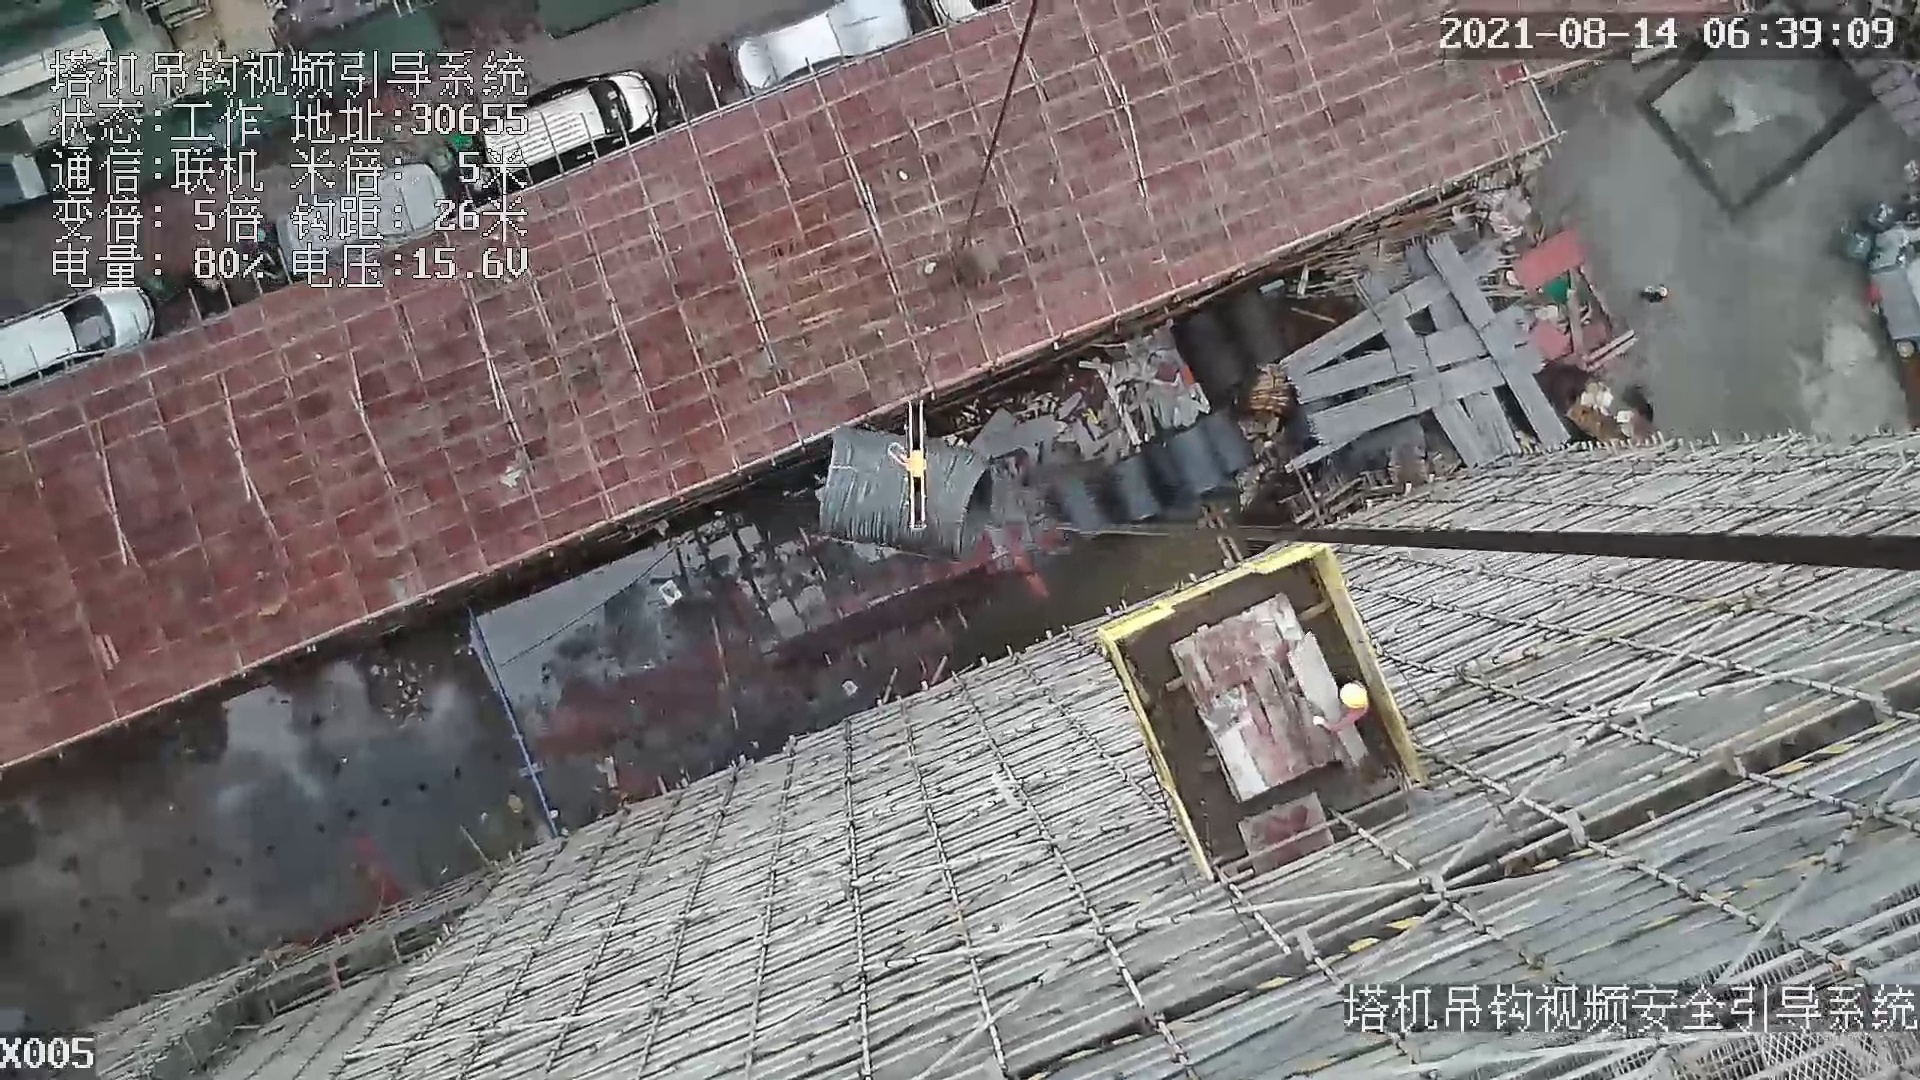helmet: (1337, 675, 1369, 719)
hook: (883, 394, 937, 533)
person: (1313, 672, 1370, 733)
